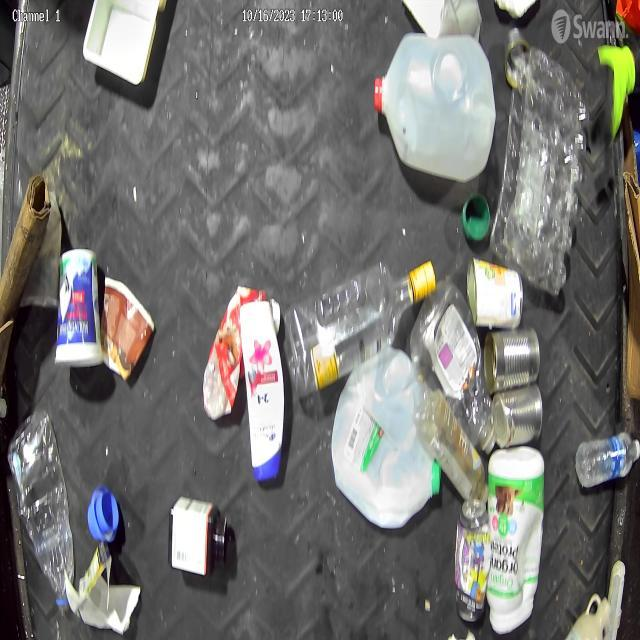can: (454, 497, 488, 619), (464, 256, 522, 327), (484, 322, 539, 393), (492, 388, 545, 448)
milk_jug: (336, 355, 440, 526), (376, 35, 498, 180)
plastic_bottle: (284, 259, 436, 397), (6, 414, 74, 606), (572, 436, 638, 486)
